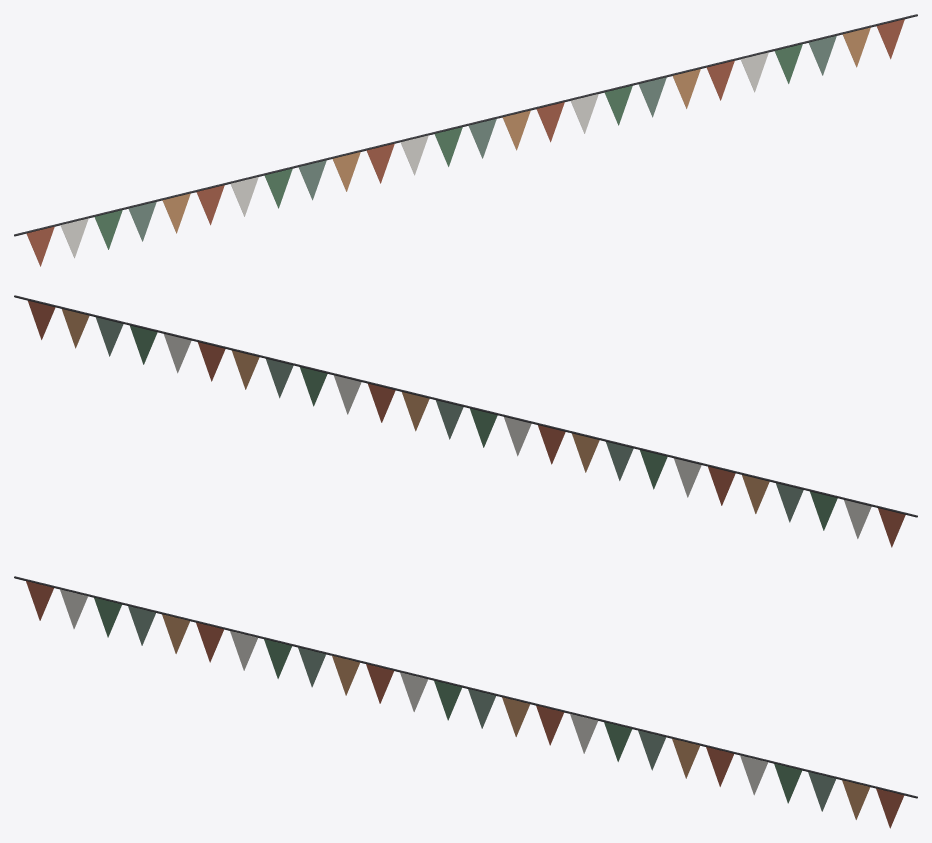
The model's file is Banderines.fbx.
3 renders of one model, top to bottom at view 1: azimuth 30°, elevation 25°; view 2: azimuth 150°, elevation 25°; view 3: azimuth 330°, elevation 25°, orthographic.
Visible parts, largest first — view 1: Banderines; view 2: Banderines; view 3: Banderines.
Part boxes in pixels (x1,y1,x2,y2): Banderines: (14, 14, 917, 266); Banderines: (14, 295, 917, 547); Banderines: (14, 576, 917, 828).
Bounding box in the file's own units: 7.7 × 0.3119 × 0.016.
